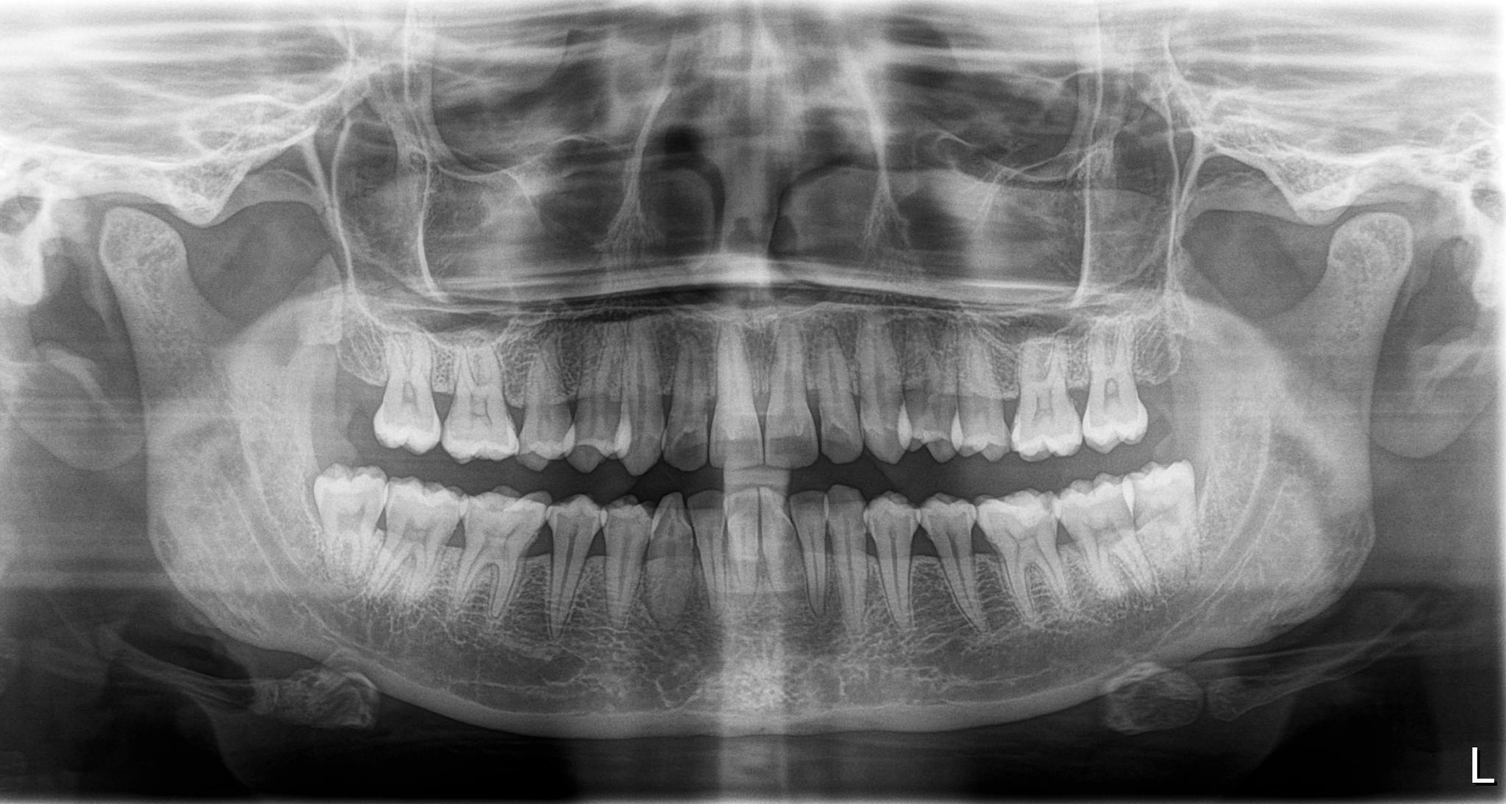Periodontal Pocket: (985, 496, 1057, 635), (390, 481, 464, 605), (1074, 476, 1133, 612), (474, 491, 532, 622), (1140, 470, 1196, 594), (327, 478, 385, 593), (540, 496, 592, 624), (706, 503, 751, 649), (517, 342, 571, 461), (1020, 320, 1068, 450), (373, 356, 436, 452), (1090, 316, 1139, 439), (711, 349, 761, 462), (605, 503, 648, 631), (653, 498, 693, 635), (452, 358, 505, 455), (958, 334, 1001, 452), (813, 342, 855, 462), (761, 503, 796, 643), (939, 481, 974, 616), (585, 349, 624, 468), (864, 333, 902, 455), (908, 334, 946, 453), (886, 496, 917, 637), (625, 342, 661, 462), (803, 497, 836, 624), (778, 340, 811, 465), (673, 345, 708, 459), (849, 507, 880, 628)
